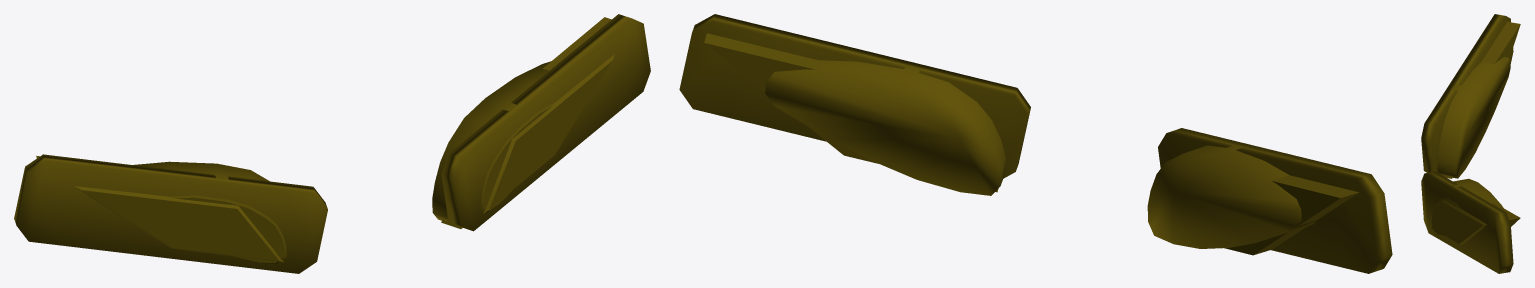
Rendered from EyebrowPack 01.fbx.
3 views of the same model, side by side, from view 1: azimuth 30°, elevation 25°; view 2: azimuth 150°, elevation 25°; view 3: azimuth 270°, elevation 25° (orthographic). The views are drawn at different scales.
Parts seen in each view (by area): view 1: R_EyeBrow, L_EyeBrow, SharpBrow_R, SharpBrow_L, RoundBrow_L, RoundBrow_R; view 2: RoundBrow_L, L_EyeBrow, RoundBrow_R, R_EyeBrow, SharpBrow_L, SharpBrow_R; view 3: RoundBrow_R, L_EyeBrow, R_EyeBrow, SharpBrow_L, SharpBrow_R, RoundBrow_L.
Part boxes in pixels (<box>): R_EyeBrow: <box>14,154,327,273</box>; L_EyeBrow: <box>441,14,650,231</box>; SharpBrow_R: <box>36,155,283,262</box>; SharpBrow_L: <box>441,17,614,228</box>; RoundBrow_L: <box>432,61,554,221</box>; RoundBrow_R: <box>133,161,287,263</box>; RoundBrow_L: <box>765,60,1005,195</box>; L_EyeBrow: <box>679,14,1030,178</box>; RoundBrow_R: <box>1147,145,1315,248</box>; R_EyeBrow: <box>1158,128,1392,273</box>; SharpBrow_L: <box>704,33,998,192</box>; SharpBrow_R: <box>1224,175,1358,255</box>; RoundBrow_R: <box>1437,57,1510,178</box>; L_EyeBrow: <box>1421,171,1513,273</box>; R_EyeBrow: <box>1421,14,1513,172</box>; SharpBrow_L: <box>1431,200,1520,245</box>; SharpBrow_R: <box>1442,21,1520,178</box>; RoundBrow_L: <box>1431,178,1503,236</box>.
Size of the model in its own units: 23.77 by 4.58 by 4.63.
